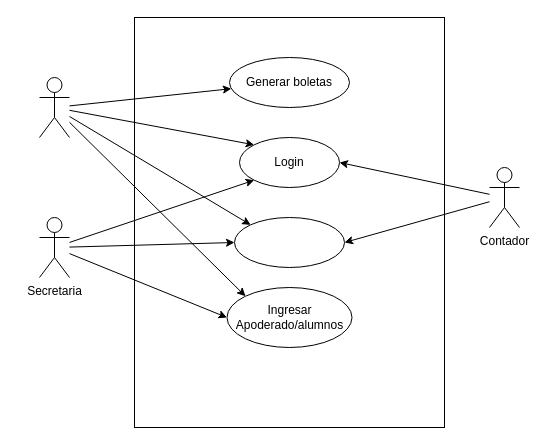
Some shapes in this 546 by 445 pixel diagram are drawn without their labels. Each missing label, with the box of its shape:
Administrativo: (38, 76, 70, 138)
Consultar Boletas: (234, 216, 344, 268)
